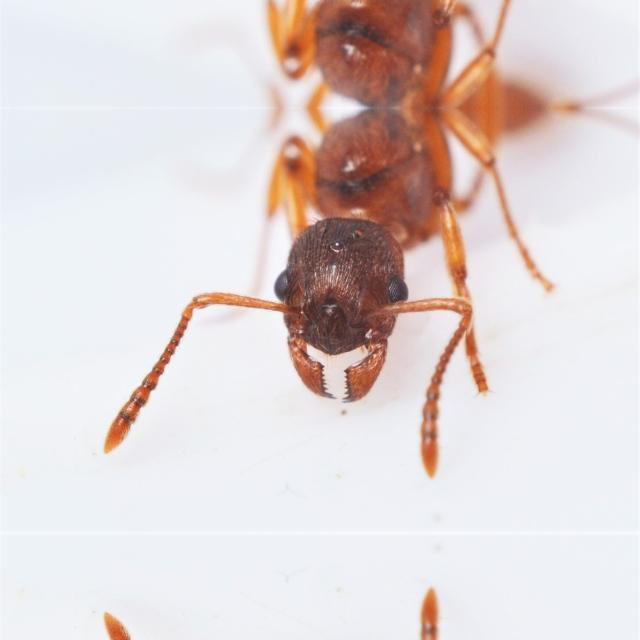Myrmica: (147, 106, 631, 448), (147, 0, 631, 106)
